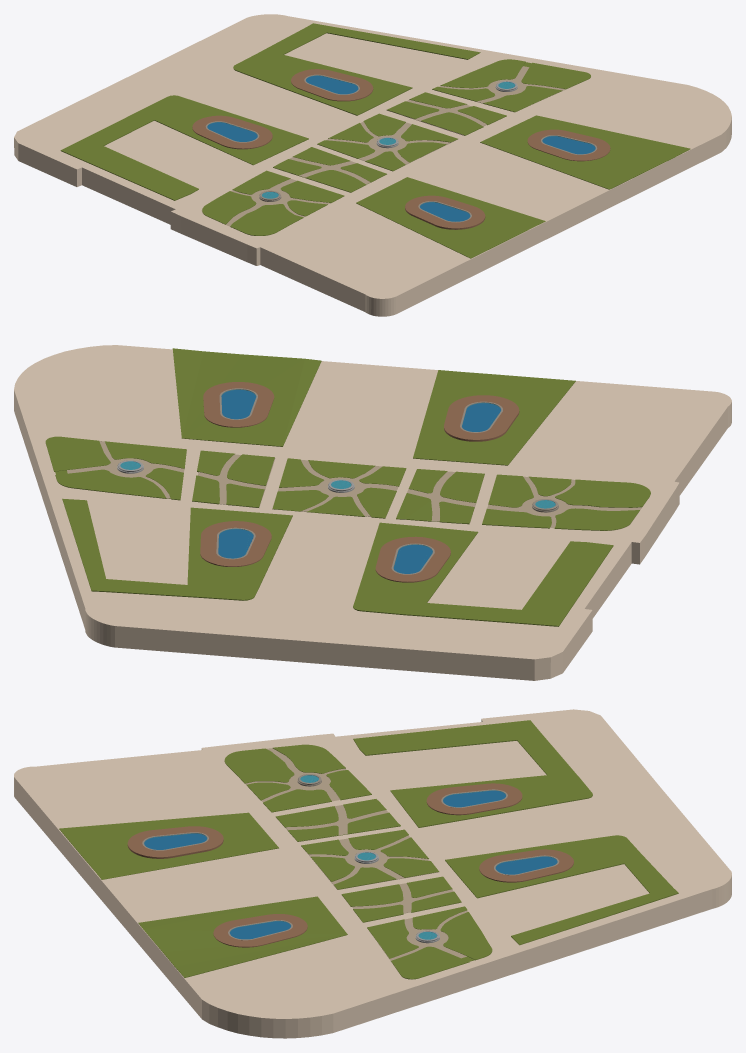
File: Monaco_landsca_Import3DFiles.glb
3 views of the same model, one above another, from view 1: azimuth 30°, elevation 25°; view 2: azimuth 150°, elevation 25°; view 3: azimuth 270°, elevation 25° (orthographic). The views are drawn at different scales.
Parts seen in each view (by area): view 1: mesh_material_from_multipatch_1, mesh_material_from_multipatch_2, mesh_material_from_multipatch_6, mesh_material_from_multipatch_8, mesh_material_from_multipatch_4, mesh_material_from_multipatch, mesh_material_from_multipatch_7; view 2: mesh_material_from_multipatch_1, mesh_material_from_multipatch_2, mesh_material_from_multipatch_6, mesh_material_from_multipatch_8, mesh_material_from_multipatch_4, mesh_material_from_multipatch, mesh_material_from_multipatch_7; view 3: mesh_material_from_multipatch_1, mesh_material_from_multipatch_2, mesh_material_from_multipatch_6, mesh_material_from_multipatch_8, mesh_material_from_multipatch_4, mesh_material_from_multipatch, mesh_material_from_multipatch_7.
Part boxes in pixels (left/top/right/bottom): mesh_material_from_multipatch_1: left=14, top=14, right=731, bottom=316; mesh_material_from_multipatch_2: left=60, top=23, right=690, bottom=258; mesh_material_from_multipatch_6: left=192, top=69, right=610, bottom=229; mesh_material_from_multipatch_8: left=201, top=66, right=574, bottom=234; mesh_material_from_multipatch_4: left=207, top=75, right=595, bottom=221; mesh_material_from_multipatch: left=207, top=76, right=595, bottom=221; mesh_material_from_multipatch_7: left=205, top=74, right=597, bottom=222; mesh_material_from_multipatch_1: left=14, top=345, right=731, bottom=680; mesh_material_from_multipatch_2: left=45, top=348, right=650, bottom=626; mesh_material_from_multipatch_6: left=200, top=382, right=519, bottom=582; mesh_material_from_multipatch_8: left=67, top=441, right=642, bottom=530; mesh_material_from_multipatch_4: left=218, top=389, right=500, bottom=573; mesh_material_from_multipatch: left=218, top=390, right=500, bottom=573; mesh_material_from_multipatch_7: left=216, top=388, right=558, bottom=574; mesh_material_from_multipatch_1: left=14, top=709, right=731, bottom=1038; mesh_material_from_multipatch_2: left=59, top=720, right=678, bottom=979; mesh_material_from_multipatch_6: left=127, top=783, right=573, bottom=947; mesh_material_from_multipatch_8: left=224, top=748, right=467, bottom=960; mesh_material_from_multipatch_4: left=144, top=790, right=557, bottom=939; mesh_material_from_multipatch: left=144, top=791, right=557, bottom=938; mesh_material_from_multipatch_7: left=142, top=774, right=559, bottom=940.
Bounding box in the file's own units: 247 × 8.52 × 242.
